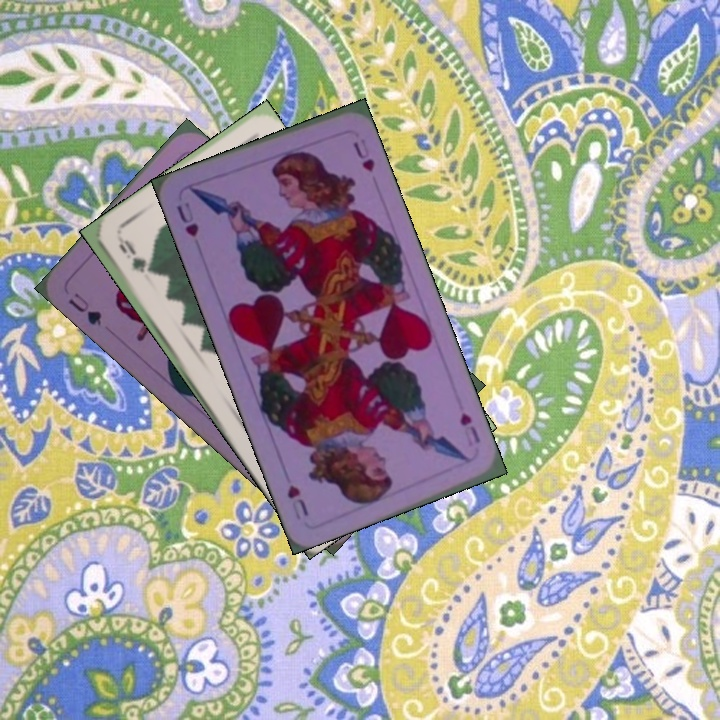G9: (114, 234, 148, 276)
GU: (64, 288, 104, 329)
HU: (172, 198, 202, 240), (455, 408, 483, 446)
